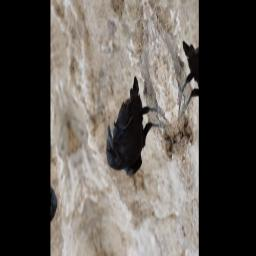Crow: (94, 65, 172, 190)
